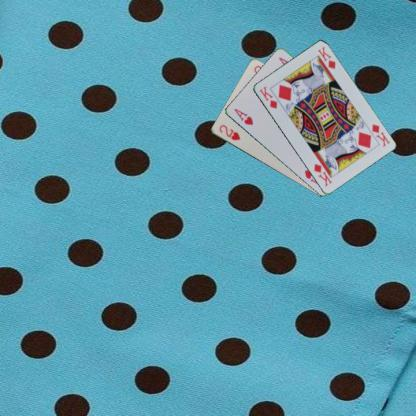2h: (216, 122, 241, 141)
Ah: (232, 106, 254, 127)
Kd: (369, 121, 391, 148), (256, 84, 278, 110)
